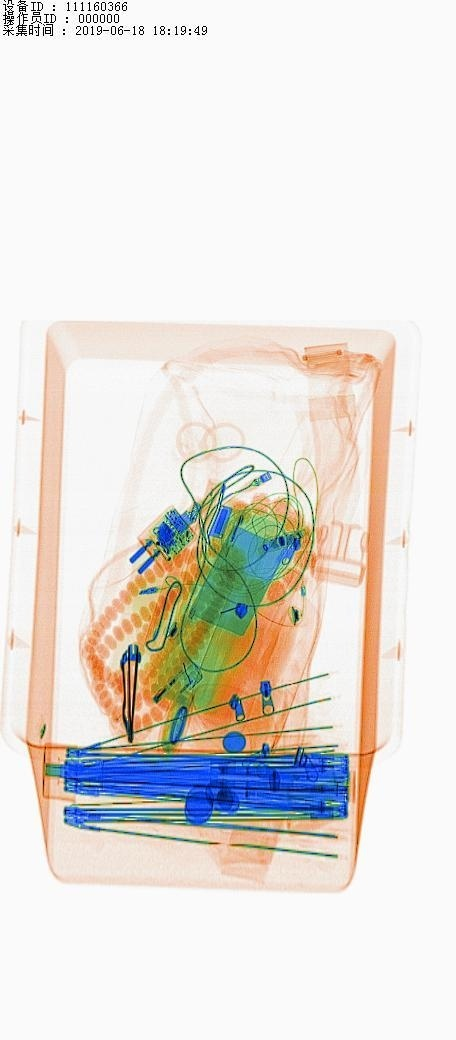NonmetallicFire: (120, 646, 213, 755)
